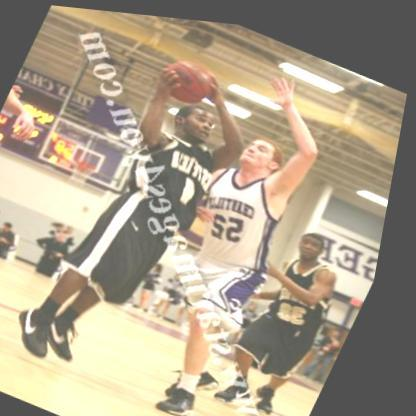basketball: (157, 50, 226, 107)
rim: (75, 155, 106, 172)
